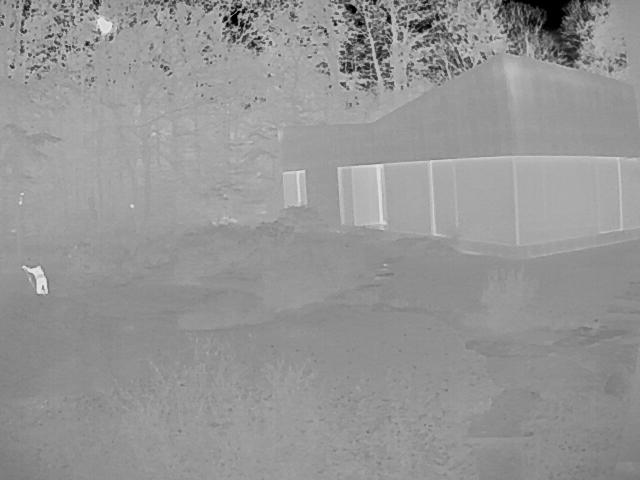person: (22, 265, 51, 294)
